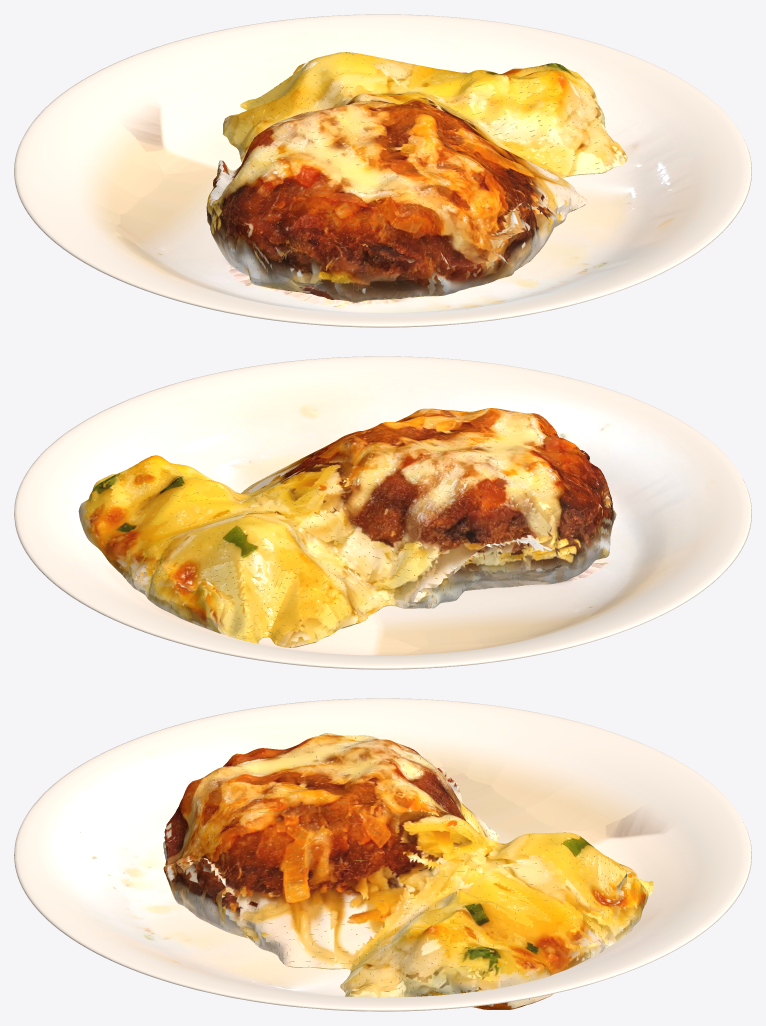
Rendered from prato-fotografico.glb.
3 renders of one model, top to bottom at view 1: azimuth 30°, elevation 25°; view 2: azimuth 150°, elevation 25°; view 3: azimuth 270°, elevation 25°, orthographic.
Parts seen in each view (by area): view 1: Prato de cerâmica · diâmetro estimado 27 cm, Prato fotografado · superfície reconstruída; view 2: Prato de cerâmica · diâmetro estimado 27 cm, Prato fotografado · superfície reconstruída; view 3: Prato de cerâmica · diâmetro estimado 27 cm, Prato fotografado · superfície reconstruída.
Part boxes in pixels (x1,y1,x2,y2): Prato de cerâmica · diâmetro estimado 27 cm: (14,14,751,327); Prato fotografado · superfície reconstruída: (206,52,627,302); Prato de cerâmica · diâmetro estimado 27 cm: (14,356,751,669); Prato fotografado · superfície reconstruída: (78,408,616,647); Prato de cerâmica · diâmetro estimado 27 cm: (14,698,751,1011); Prato fotografado · superfície reconstruída: (163,733,654,1009).
Size of the model in its own units: 0.27 by 0.0568 by 0.27.
Materials: 2 (2 with a texture image).
